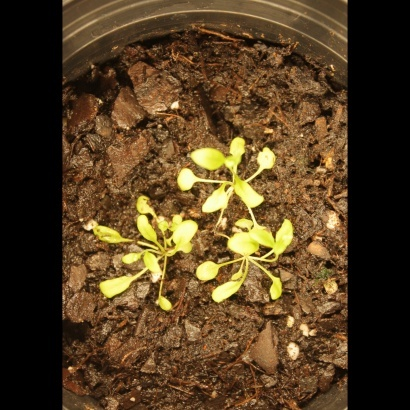leaf: (94, 269, 135, 303), (184, 140, 226, 171), (229, 232, 267, 261), (90, 221, 128, 249), (246, 219, 279, 251), (211, 276, 246, 306), (273, 216, 299, 255), (200, 184, 231, 216), (234, 182, 264, 212), (133, 214, 161, 246), (173, 216, 200, 246), (266, 276, 295, 303), (223, 132, 250, 161), (254, 144, 279, 174), (170, 166, 197, 193), (190, 260, 220, 283), (121, 247, 144, 270), (156, 293, 179, 316), (135, 194, 158, 217), (234, 211, 257, 234)
